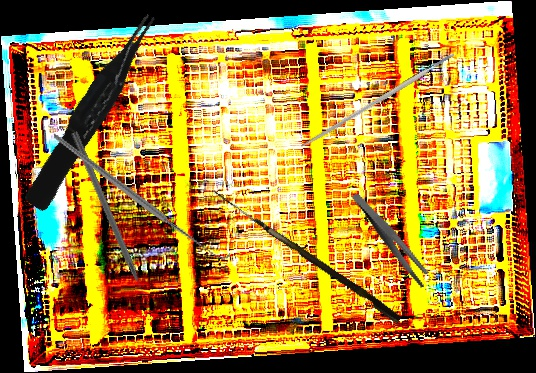Dressing Forceps: (351, 180, 433, 299)
Hook Surgical: (52, 88, 232, 303), (205, 188, 405, 325), (68, 131, 150, 304)
Scalpel Handle: (299, 51, 458, 150)
Tissue Forceps: (15, 10, 172, 213)
